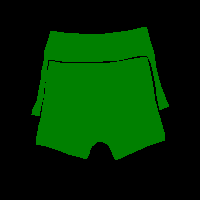mutande: (36, 57, 165, 160), (31, 26, 169, 116)
